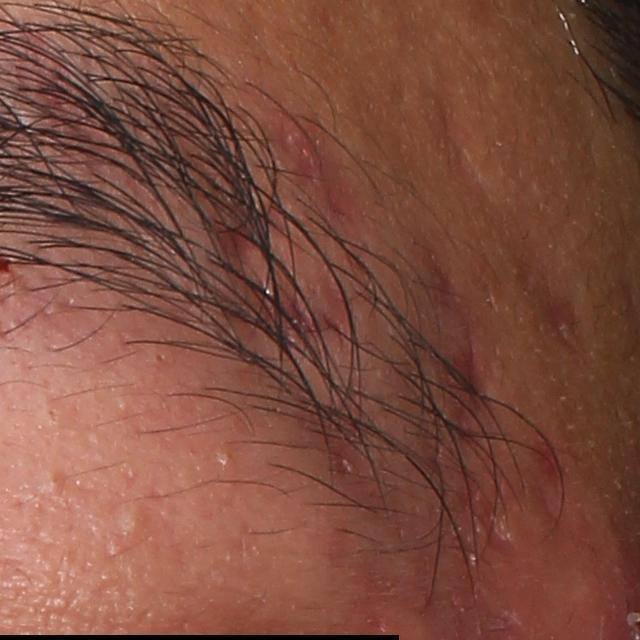atrophic_scar: (424, 61, 588, 358), (282, 114, 367, 245), (511, 251, 583, 352), (204, 194, 291, 268), (436, 336, 492, 421)
comedo: (114, 501, 154, 542), (41, 464, 75, 501), (211, 444, 239, 476)
